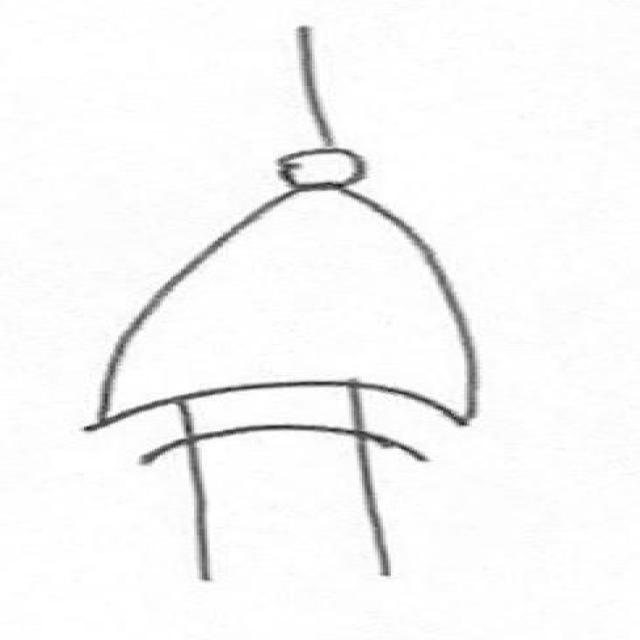XNOR: (45, 133, 601, 495)
